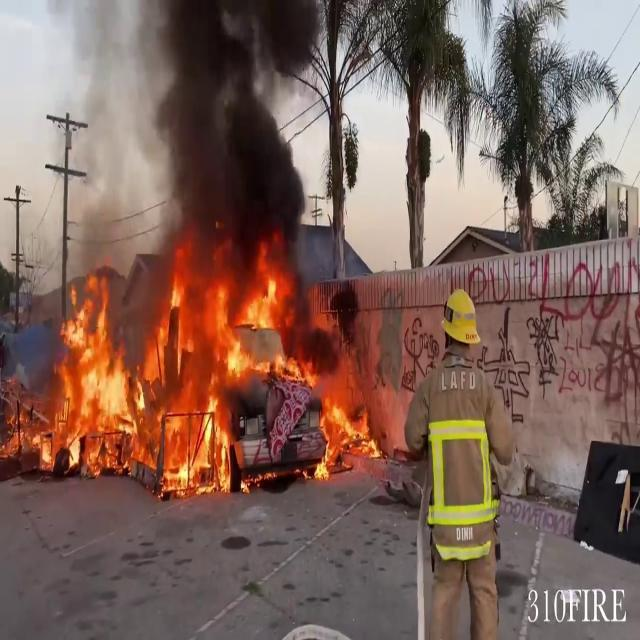Fire: (12, 245, 382, 492)
Smoke: (117, 0, 319, 258)
